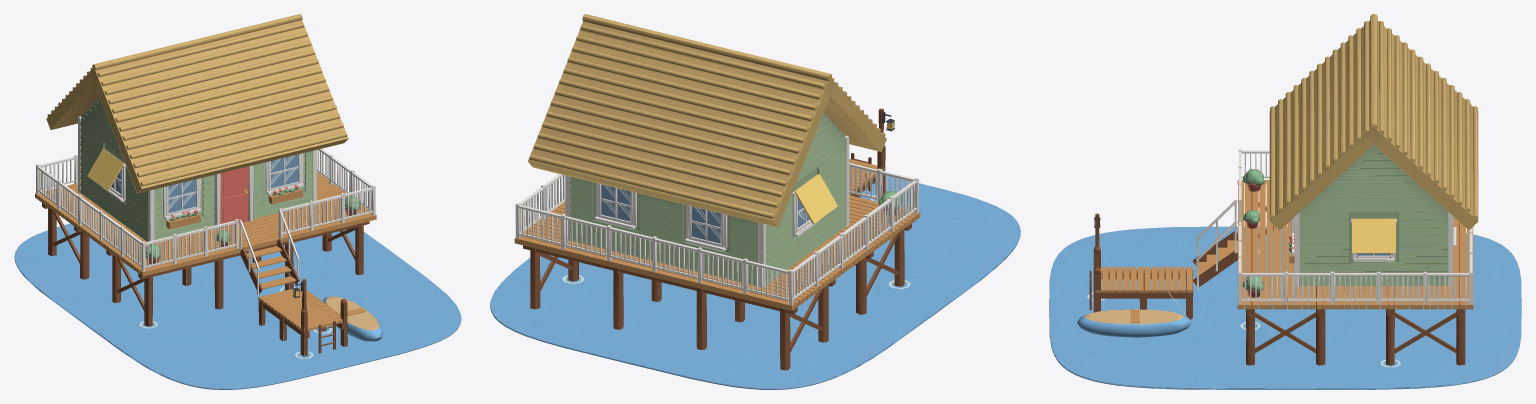
Rendered from stilt-house-light.glb.
The picture shows the model from 3 angles, left to right: view 1: azimuth 30°, elevation 25°; view 2: azimuth 150°, elevation 25°; view 3: azimuth 270°, elevation 25°; orthographic projection. The views are drawn at different scales.
Parts seen in each view (by area): view 1: stilt-house_body, stilt-house_details, stilt-house_door_l, stilt-house_frame, stilt-house_plants, stilt-house_glints; view 2: stilt-house_body, stilt-house_details, stilt-house_glints; view 3: stilt-house_body, stilt-house_details, stilt-house_plants.
Part boxes in pixels (<box>): stilt-house_body: <box>14,14,461,389</box>; stilt-house_details: <box>35,116,383,358</box>; stilt-house_door_l: <box>220,166,248,227</box>; stilt-house_frame: <box>214,165,253,229</box>; stilt-house_plants: <box>145,195,360,259</box>; stilt-house_glints: <box>113,155,295,209</box>; stilt-house_body: <box>490,14,1020,389</box>; stilt-house_details: <box>514,108,920,370</box>; stilt-house_glints: <box>603,184,804,240</box>; stilt-house_body: <box>1049,14,1521,389</box>; stilt-house_details: <box>1077,149,1473,367</box>; stilt-house_plants: <box>1242,168,1264,291</box>.
Size of the model in its own units: 10.39 by 7.2 by 12.8.
21 materials, 1 textured.
